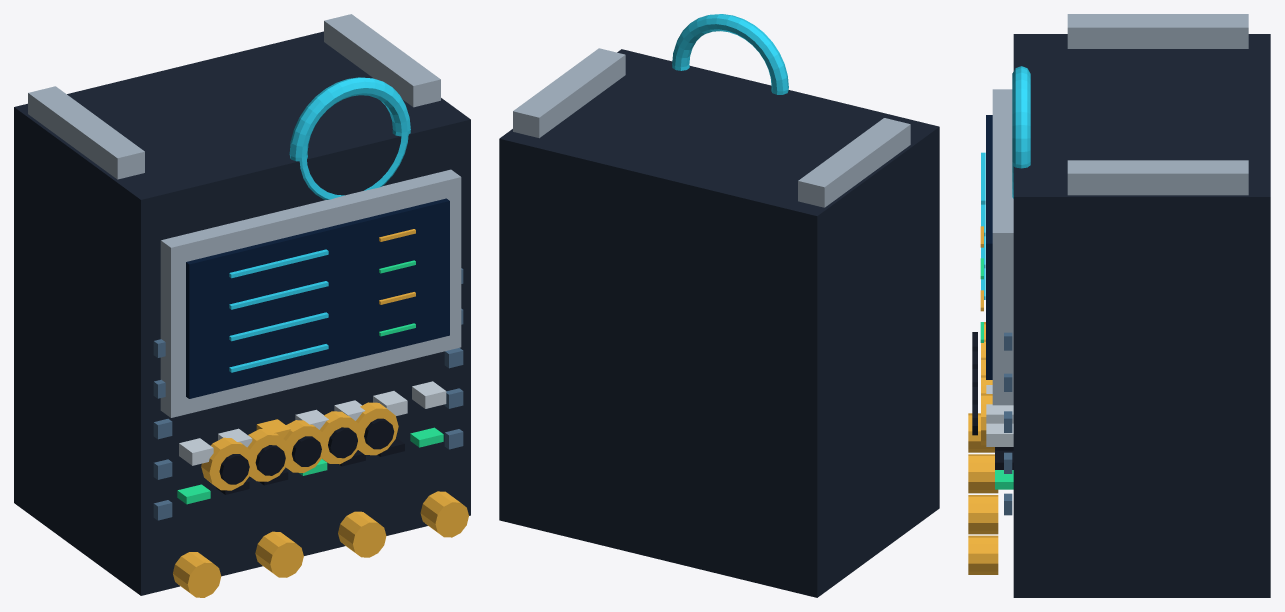
File: 47_L85_RelativeTrajectoryPlanningComputer.fbx
3 renders of one model, left to right at view 1: azimuth 30°, elevation 25°; view 2: azimuth 150°, elevation 25°; view 3: azimuth 270°, elevation 25°, orthographic. The views are drawn at different scales.
Visible parts, largest first — view 1: L85_RelativeTrajectoryPlanningComputer, L85_RelativeTrajectoryPlanningComputer_Part_0009, L85_RelativeTrajectoryPlanningComputer_Part_0010, L85_RelativeTrajectoryPlanningComputer_Part_0012, L85_RelativeTrajectoryPlanningComputer_Part_0018, L85_RelativeTrajectoryPlanningComputer_Part_0016, L85_RelativeTrajectoryPlanningComputer_Part_0014, L85_RelativeTrajectoryPlanningComputer_Part_0019, L85_RelativeTrajectoryPlanningComputer_Part_0017, L85_RelativeTrajectoryPlanningComputer_Part_0011, L85_RelativeTrajectoryPlanningComputer_Part_0013, L85_RelativeTrajectoryPlanningComputer_Part_0015; view 2: L85_RelativeTrajectoryPlanningComputer, L85_RelativeTrajectoryPlanningComputer_Part_0009; view 3: L85_RelativeTrajectoryPlanningComputer, L85_RelativeTrajectoryPlanningComputer_Part_0009.
Part boxes in pixels (left/top/right/bottom): L85_RelativeTrajectoryPlanningComputer: left=14, top=14, right=470, bottom=597; L85_RelativeTrajectoryPlanningComputer_Part_0009: left=289, top=77, right=410, bottom=199; L85_RelativeTrajectoryPlanningComputer_Part_0010: left=201, top=437, right=253, bottom=490; L85_RelativeTrajectoryPlanningComputer_Part_0012: left=247, top=429, right=289, bottom=481; L85_RelativeTrajectoryPlanningComputer_Part_0018: left=356, top=402, right=398, bottom=455; L85_RelativeTrajectoryPlanningComputer_Part_0016: left=319, top=411, right=362, bottom=464; L85_RelativeTrajectoryPlanningComputer_Part_0014: left=283, top=420, right=325, bottom=472; L85_RelativeTrajectoryPlanningComputer_Part_0019: left=364, top=418, right=394, bottom=449; L85_RelativeTrajectoryPlanningComputer_Part_0017: left=328, top=427, right=357, bottom=458; L85_RelativeTrajectoryPlanningComputer_Part_0011: left=219, top=454, right=249, bottom=484; L85_RelativeTrajectoryPlanningComputer_Part_0013: left=255, top=445, right=285, bottom=475; L85_RelativeTrajectoryPlanningComputer_Part_0015: left=292, top=436, right=321, bottom=466; L85_RelativeTrajectoryPlanningComputer: left=499, top=48, right=939, bottom=597; L85_RelativeTrajectoryPlanningComputer_Part_0009: left=672, top=14, right=788, bottom=94; L85_RelativeTrajectoryPlanningComputer: left=968, top=14, right=1270, bottom=597; L85_RelativeTrajectoryPlanningComputer_Part_0009: left=1012, top=66, right=1030, bottom=198.
Size of the model in its own units: 95.88 by 128 by 75.2.
